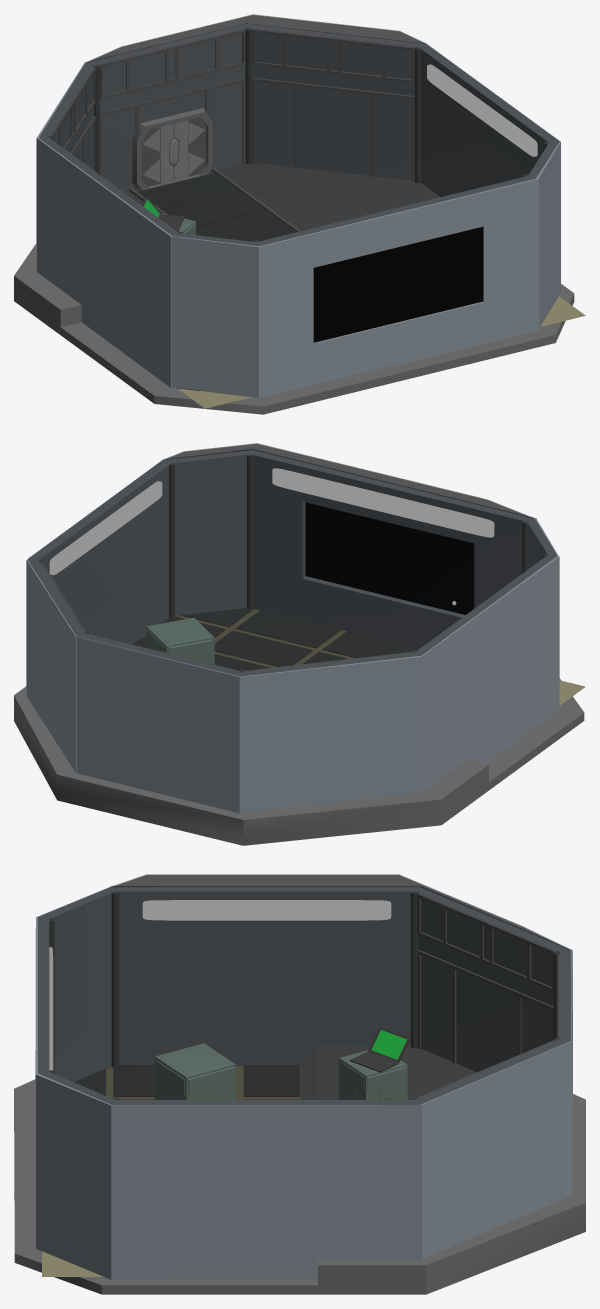
Rendered from test-zone2.glb.
3 renders of one model, top to bottom at view 1: azimuth 30°, elevation 25°; view 2: azimuth 150°, elevation 25°; view 3: azimuth 270°, elevation 25°, orthographic. The views are drawn at different scales.
Visible parts, largest first — view 1: pCube121, polySurface112, pCube2, pCube9, pCube1, pCube7, pCube158, pCube4, pCube6, polySurface22, pCube8, pCube3 (+15 smaller); view 2: pCube121, pCube3, pCube4, pCube2, polySurface112, pCube9, pCube6, pCube158, pCube8, pCube1, pCube153, polySurface6 (+9 smaller); view 3: pCube121, pCube6, pCube2, pCube1, pCube9, pCube3, pCube8, pCube7, pCube156, polySurface23, polySurface112, polySurface7 (+12 smaller).
Boxes of the visible parts, x1,y1,x2,y2 form: pCube121: (39,14,559,245); polySurface112: (256,175,538,398); pCube2: (37,137,178,387); pCube9: (14,163,574,414); pCube1: (246,23,424,180); pCube7: (171,233,258,398); pCube158: (313,226,482,342); pCube4: (85,24,247,192); pCube6: (420,43,560,196); polySurface22: (252,29,414,181); pCube8: (528,141,560,328); pCube3: (36,62,93,271); pCube121: (28,443,557,676); pCube3: (239,652,422,813); pCube4: (76,634,241,813); pCube2: (414,555,559,792); polySurface112: (249,449,536,648); pCube9: (14,678,584,845); pCube6: (26,460,170,696); pCube158: (305,502,474,614); pCube8: (163,449,251,616); pCube1: (27,560,84,773); pCube153: (272,468,494,537); polySurface6: (146,618,214,664); pCube121: (38,874,570,1104); pCube6: (111,1100,422,1279); pCube2: (111,886,420,1065); pCube1: (415,1039,572,1258); pCube9: (14,1046,585,1294); pCube3: (418,887,572,1104); pCube8: (36,1072,116,1279); pCube7: (37,886,116,1081); pCube156: (142,900,391,920); polySurface23: (417,893,555,1063); polySurface112: (35,917,49,1248); polySurface7: (339,1050,407,1099).
Size of the model in its own units: 29.04 by 12.4 by 29.7.
